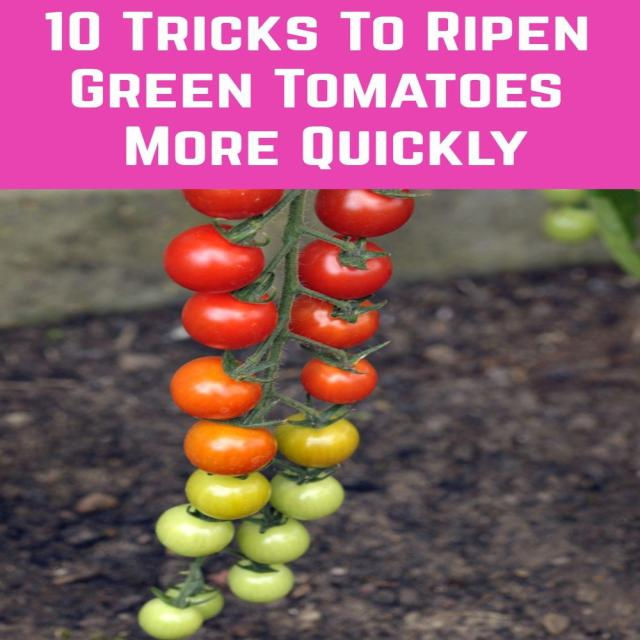level 2: (154, 506, 239, 559), (232, 518, 314, 566), (263, 471, 344, 516), (225, 561, 295, 601), (140, 600, 205, 638), (169, 581, 228, 622)
level 3: (273, 413, 363, 466), (186, 465, 272, 519)
level 5: (174, 356, 262, 420), (186, 415, 273, 473)
level 6: (180, 144, 284, 220), (163, 222, 263, 295), (318, 175, 422, 236), (184, 284, 280, 350), (295, 237, 393, 292), (290, 290, 378, 346), (302, 356, 378, 402)
